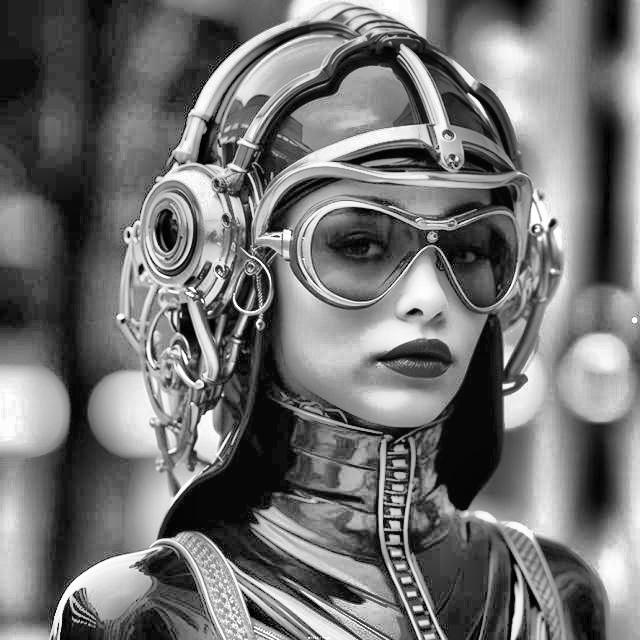Helmet: (98, 0, 574, 495)
